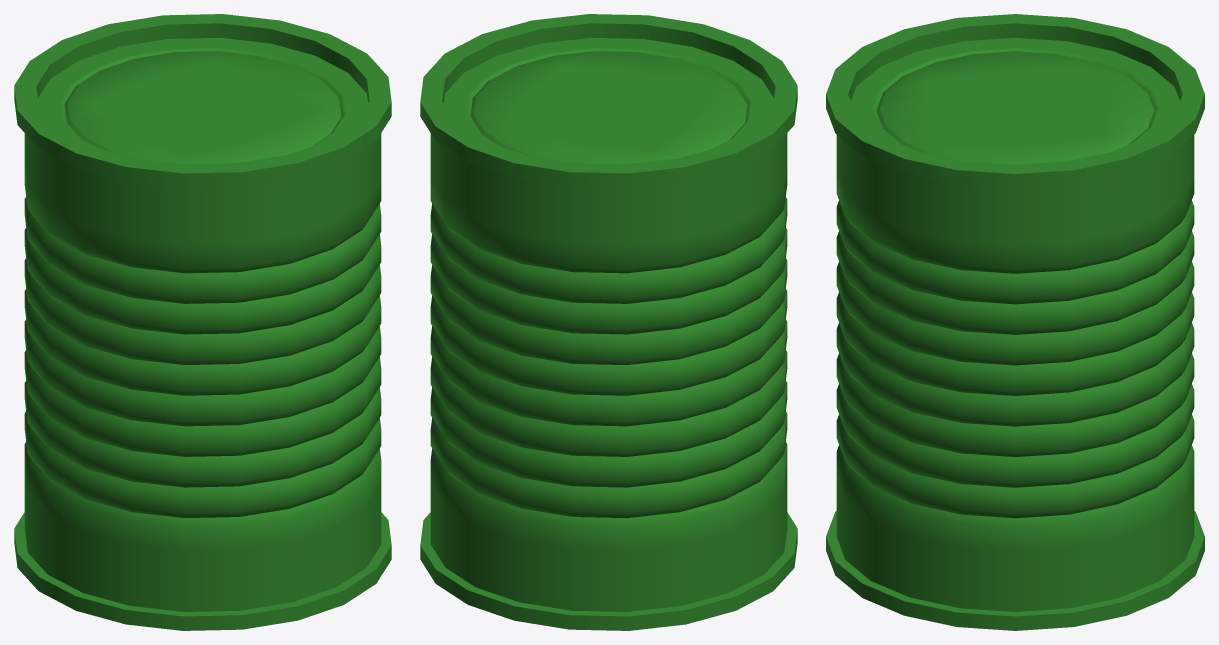
File: can.FBX
The picture shows the model from 3 angles, left to right: view 1: azimuth 30°, elevation 25°; view 2: azimuth 150°, elevation 25°; view 3: azimuth 270°, elevation 25°; orthographic projection.
Parts seen in each view (by area): view 1: Can; view 2: Can; view 3: Can.
Part boxes in pixels (x1,y1,x2,y2): Can: (14, 14, 391, 630); Can: (420, 14, 797, 630); Can: (826, 14, 1204, 630).
Bounding box in the file's own units: 0.0988 × 0.1315 × 0.0988.
